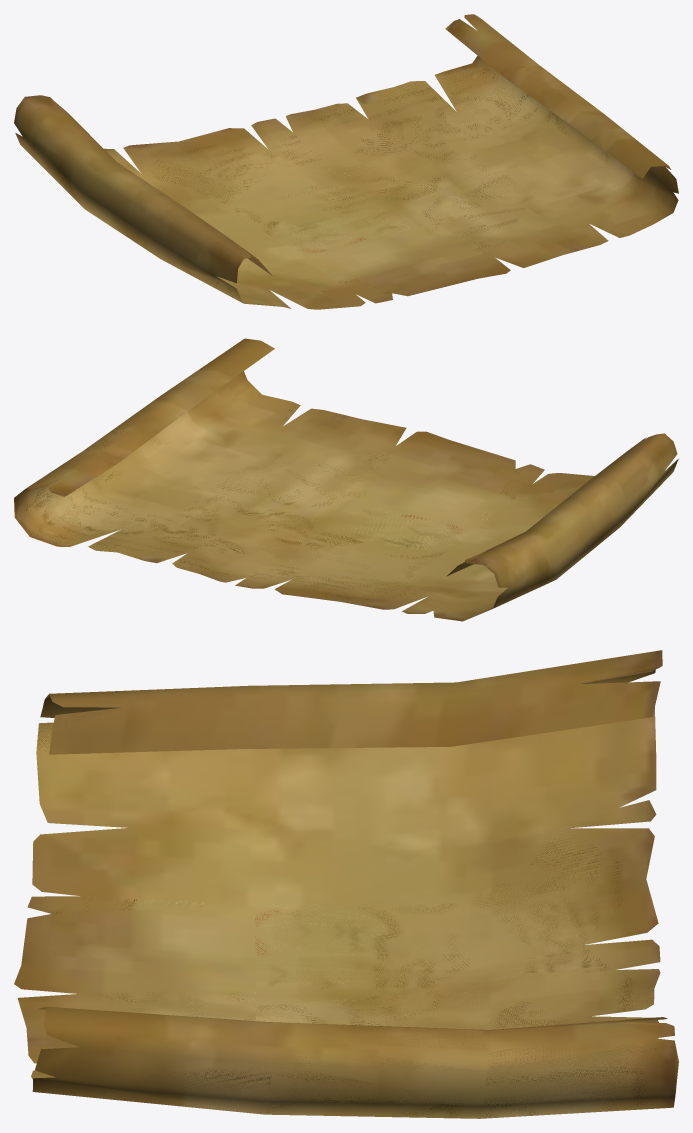
The picture shows the model from 3 angles, top to bottom: view 1: azimuth 30°, elevation 25°; view 2: azimuth 150°, elevation 25°; view 3: azimuth 270°, elevation 25°; orthographic projection. The views are drawn at different scales.
Bounding box in the file's own units: 8.67 × 1.68 × 6.82.
1 material, 1 textured.
